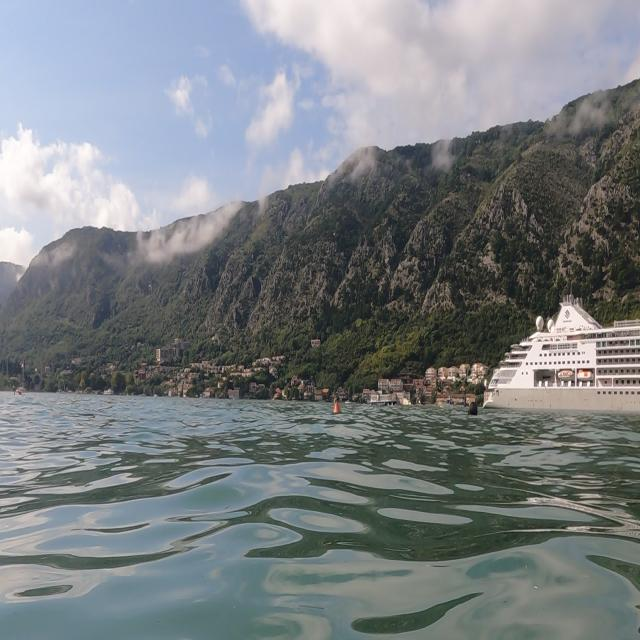boat: (480, 289, 639, 415)
buoy: (328, 396, 346, 422), (463, 398, 481, 423)
